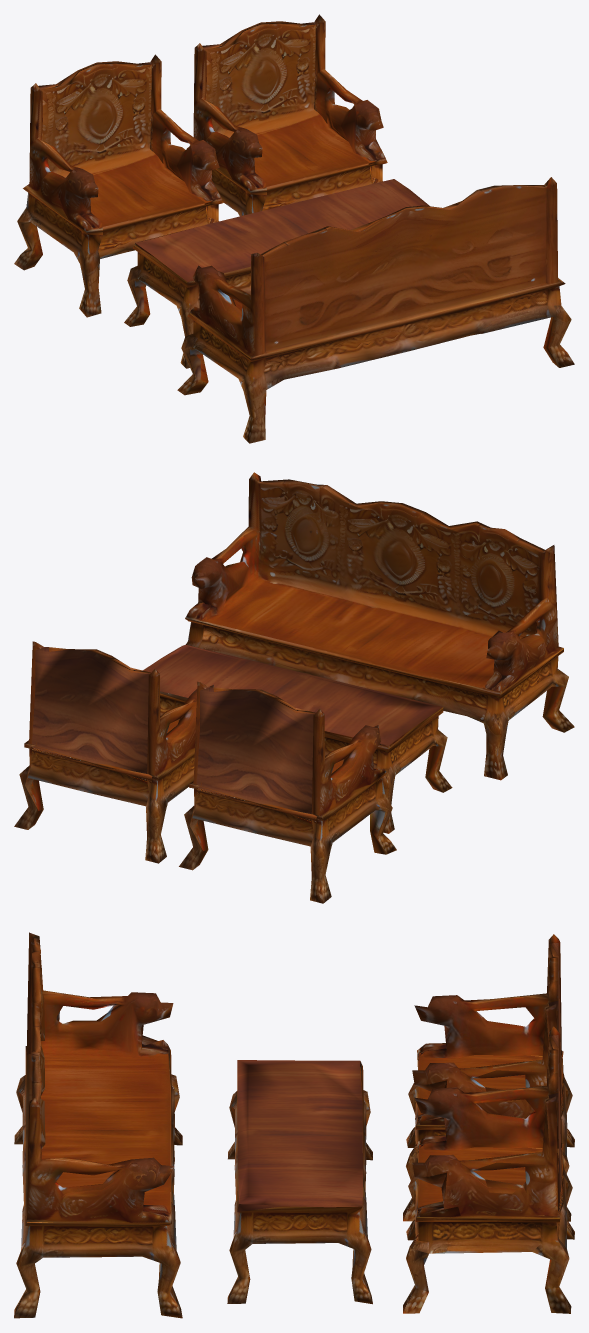
The model's file is Vietnamese dragon sofa.fbx.
3 renders of one model, top to bottom at view 1: azimuth 30°, elevation 25°; view 2: azimuth 150°, elevation 25°; view 3: azimuth 270°, elevation 25°, orthographic. The views are drawn at different scales.
Visible parts, largest first — view 1: vietnamese wooden sofa, vietnamese wooden sofa.006, vietnamese wooden sofa.001, vietnamese wooden sofa.002; view 2: vietnamese wooden sofa, vietnamese wooden sofa.006, vietnamese wooden sofa.001, vietnamese wooden sofa.002; view 3: vietnamese wooden sofa, vietnamese wooden sofa.001, vietnamese wooden sofa.002, vietnamese wooden sofa.006.
Part boxes in pixels (x1,y1,x2,y2): vietnamese wooden sofa: (177,177,574,443); vietnamese wooden sofa.006: (14,54,223,317); vietnamese wooden sofa.001: (187,14,387,216); vietnamese wooden sofa.002: (124,179,429,368); vietnamese wooden sofa: (185,472,574,780); vietnamese wooden sofa.006: (179,681,396,903); vietnamese wooden sofa.001: (14,641,213,863); vietnamese wooden sofa.002: (143,644,452,833); vietnamese wooden sofa: (14,932,182,1318); vietnamese wooden sofa.001: (403,1026,574,1313); vietnamese wooden sofa.002: (227,1060,372,1304); vietnamese wooden sofa.006: (403,934,574,1221).
Size of the model in its own units: 298 by 165 by 386.
Materials: 3 (3 with a texture image).
